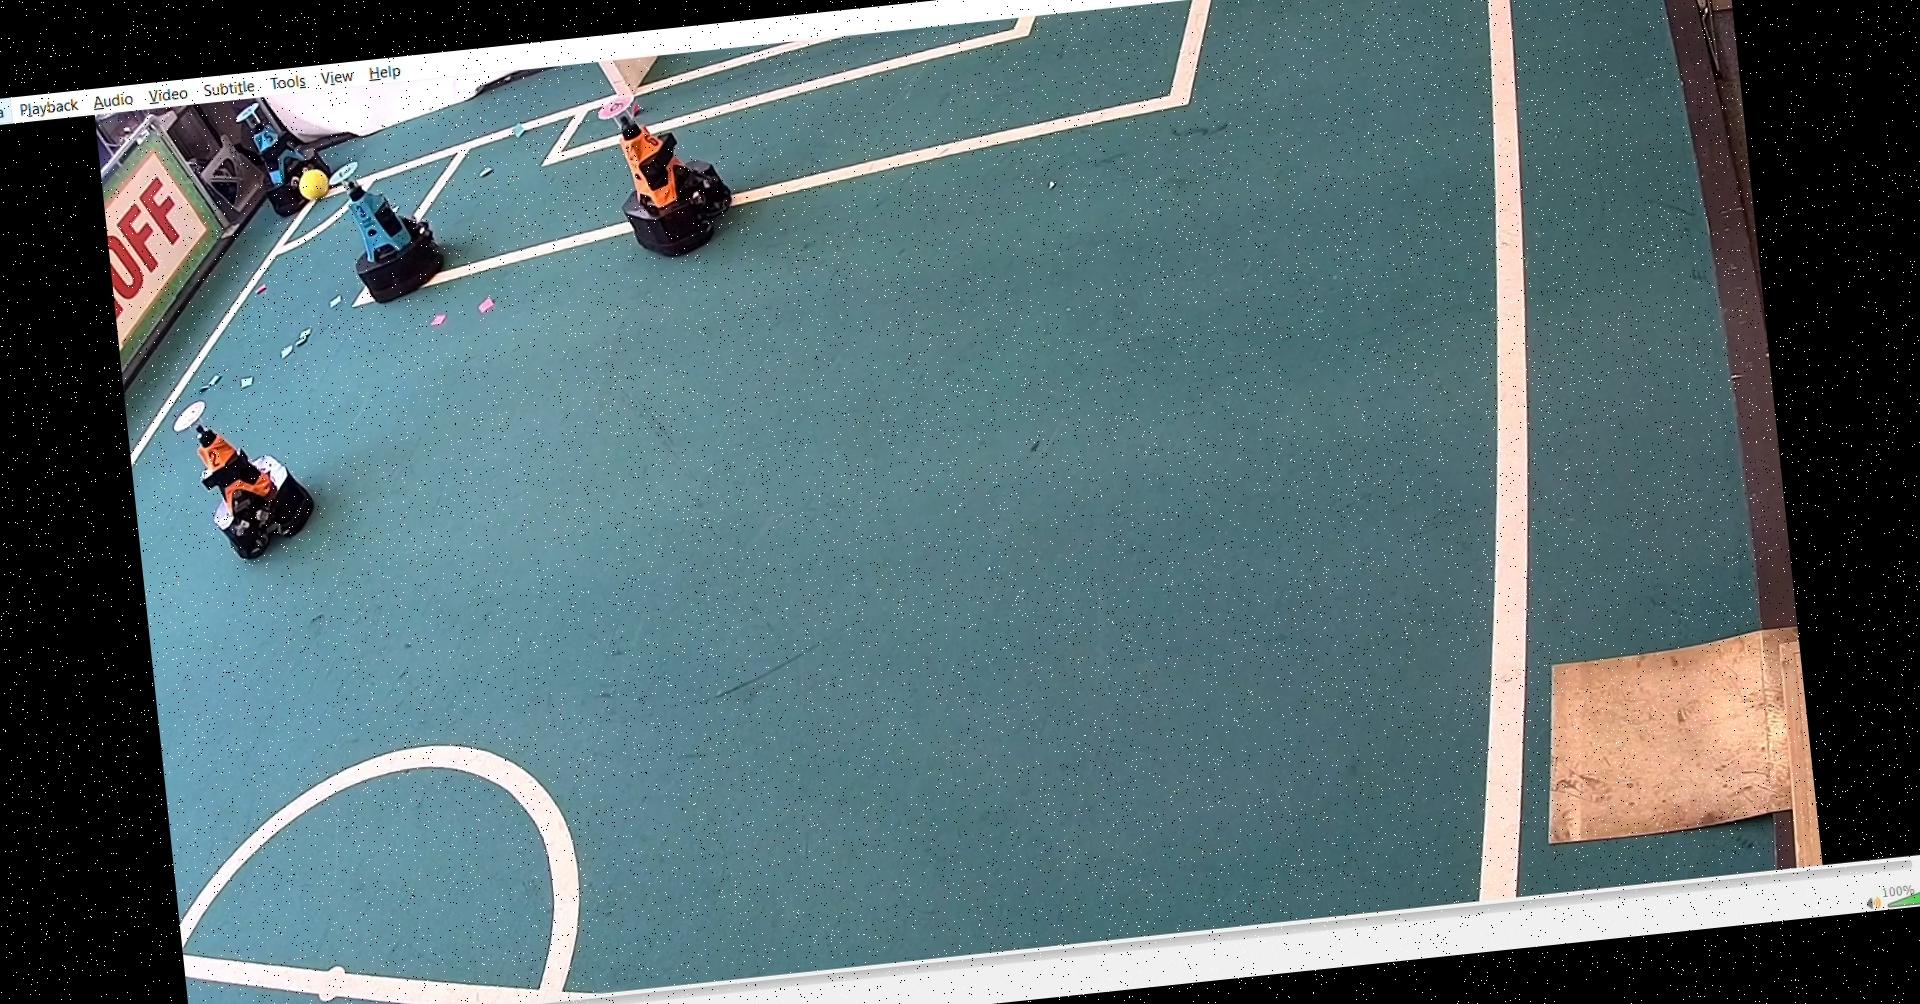Ball: (293, 166, 342, 207)
Team_Blue: (325, 147, 456, 308), (232, 95, 337, 216)
Team_Red: (168, 383, 325, 570), (593, 76, 739, 272)
